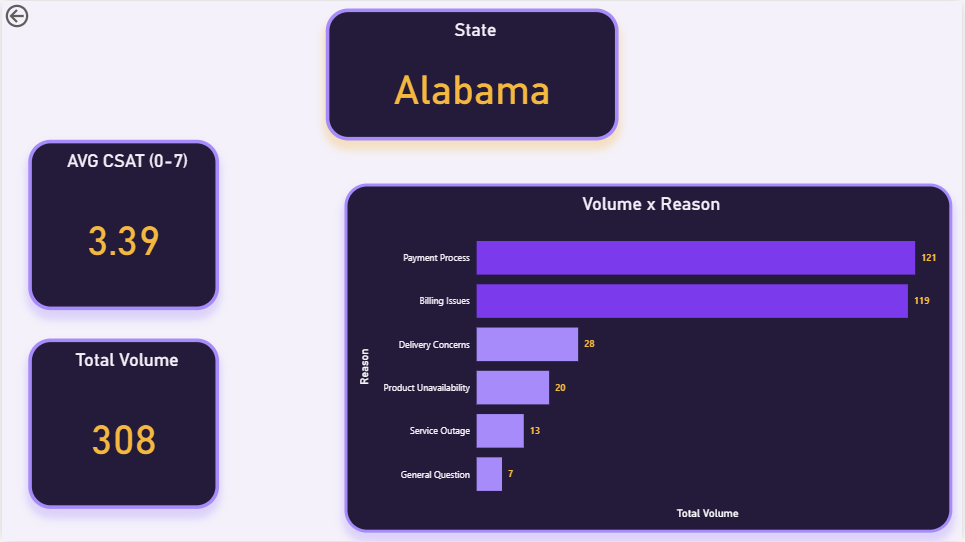

What the dashboard file says about the page in this screenshot:
{"tool":"powerbi","page":{"name":"State Detail","canvas":[1280,720],"ordinal":5},"visuals":[{"type":"actionButton","box":[0,0,100,40],"z":0},{"type":"card","title":"State","fields":{"Values":["Min(Call Center Data.State)"]},"box":[431.4,10,390,175.7],"z":1},{"type":"card","title":"AVG CSAT (0-7)","fields":{"Values":["Call Center Data.Avg CSAT"]},"box":[34.3,185.7,254.3,227.1],"z":2},{"type":"card","title":"Total Volume","fields":{"Values":["Call Center Data.Total Calls"]},"box":[34.3,450,254.3,227.1],"z":3},{"type":"clusteredBarChart","title":"Volume x Reason","fields":{"Category":["Reason.Reason Description"],"Y":["Call Center Data.Total Calls"]},"box":[457.1,242.9,810,465.7],"z":4}]}

Visuals, with their boxes in screenshot pixels (x1, y1, x2, y2), scaled from the page's 1280x720 canvas onto the 965x542 screenshot:
actionButton: (x1=0, y1=0, x2=75, y2=30)
"State" card: (x1=325, y1=8, x2=619, y2=140)
"AVG CSAT (0-7)" card: (x1=26, y1=140, x2=218, y2=311)
"Total Volume" card: (x1=26, y1=339, x2=218, y2=510)
"Volume x Reason" clusteredBarChart: (x1=345, y1=183, x2=955, y2=533)
